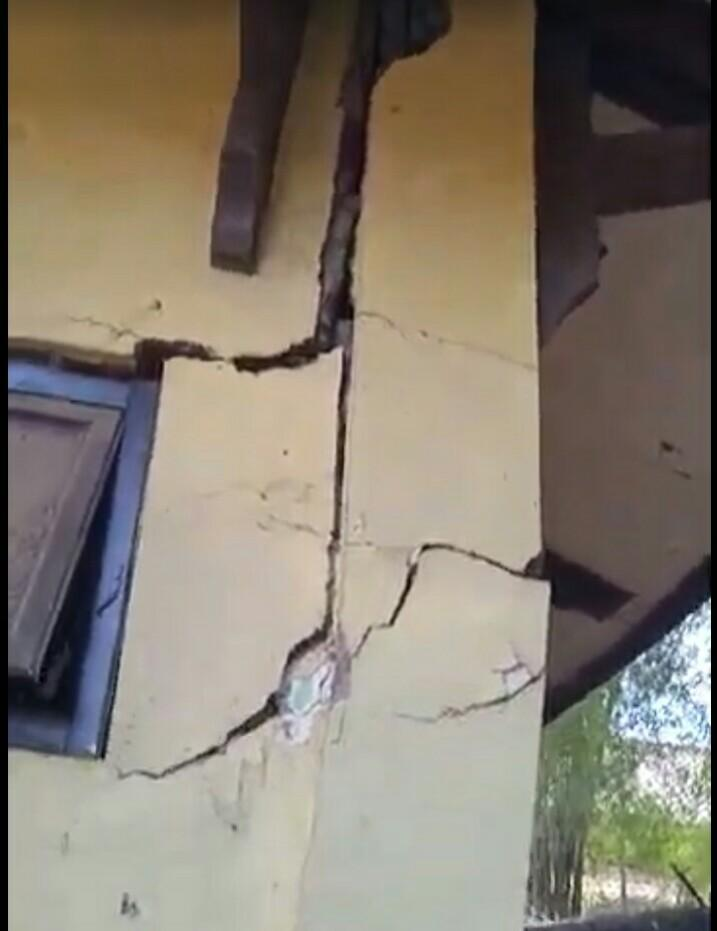Crack: (115, 372, 568, 808), (115, 0, 482, 388)
